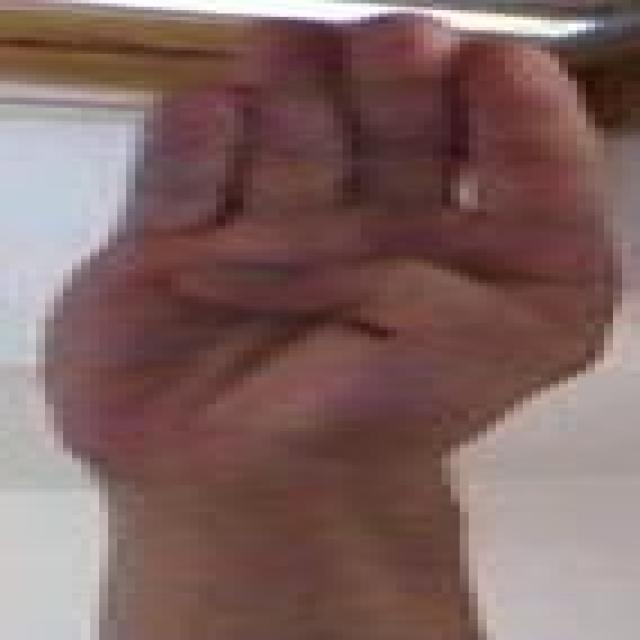B: (2, 4, 638, 449)
